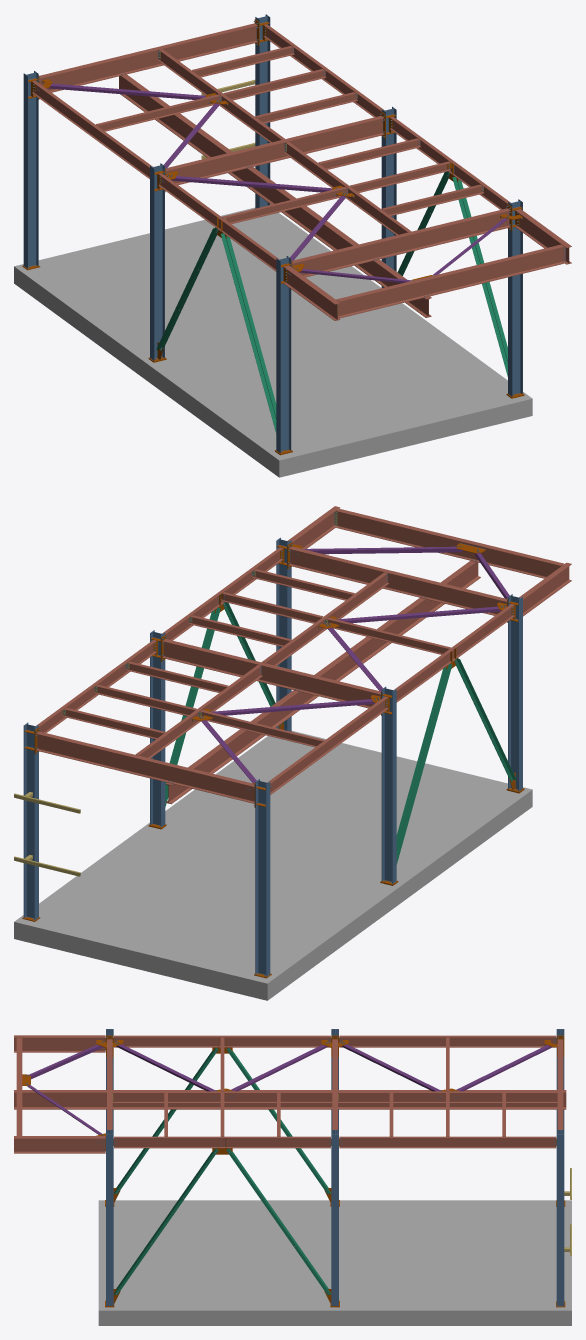
3 renders of one model, top to bottom at view 1: azimuth 30°, elevation 25°; view 2: azimuth 150°, elevation 25°; view 3: azimuth 270°, elevation 25°, orthographic. The views are drawn at different scales.
Parts seen in each view (by area): view 1: Mesh 89, Mesh 23105, Mesh 22597, Mesh 14911, Mesh 10335, Mesh 12751, Mesh 6890, Mesh 1264, Mesh 7872, Mesh 2933, Mesh 18713, Mesh 15662 (+23 smaller); view 2: Mesh 89, Mesh 23105, Mesh 10335, Mesh 22597, Mesh 12751, Mesh 14911, Mesh 6890, Mesh 7872, Mesh 4948, Mesh 1264, Mesh 8885, Mesh 18713 (+22 smaller); view 3: Mesh 89, Mesh 23105, Mesh 19105, Mesh 16978, Mesh 18713, Mesh 15662, Mesh 19742, Mesh 20409, Mesh 21630, Mesh 4948, Mesh 20853, Mesh 2933 (+14 smaller).
Boxes of the visible parts, box(x1,y1,x2,y2) form: Mesh 89: box(14, 207, 532, 477); Mesh 23105: box(119, 74, 431, 317); Mesh 22597: box(336, 244, 565, 318); Mesh 14911: box(292, 208, 510, 277); Mesh 10335: box(39, 23, 257, 92); Mesh 12751: box(165, 116, 384, 184); Mesh 6890: box(23, 71, 38, 268); Mesh 1264: box(276, 256, 291, 453); Mesh 7872: box(150, 163, 164, 360); Mesh 2933: box(508, 199, 522, 396); Mesh 18713: box(32, 80, 152, 178); Mesh 15662: box(158, 173, 279, 271); Mesh 89: box(14, 731, 532, 1000); Mesh 23105: box(165, 560, 480, 804); Mesh 10335: box(36, 731, 254, 803); Mesh 22597: box(335, 508, 563, 578); Mesh 12751: box(162, 639, 380, 708); Mesh 14911: box(288, 546, 507, 615); Mesh 6890: box(255, 779, 270, 976); Mesh 7872: box(381, 686, 396, 883); Mesh 4948: box(23, 722, 38, 920); Mesh 1264: box(508, 594, 522, 791); Mesh 8885: box(150, 630, 165, 827); Mesh 18713: box(267, 696, 388, 794); Mesh 89: box(98, 1200, 571, 1325); Mesh 23105: box(14, 1090, 566, 1109); Mesh 19105: box(339, 1136, 556, 1148); Mesh 16978: box(114, 1136, 330, 1148); Mesh 18713: box(339, 1035, 556, 1047); Mesh 15662: box(114, 1035, 330, 1047); Mesh 19742: box(112, 1091, 332, 1102); Mesh 20409: box(338, 1091, 557, 1102); Mesh 21630: box(14, 1136, 105, 1153); Mesh 4948: box(556, 1130, 564, 1305); Mesh 20853: box(14, 1035, 105, 1052); Mesh 2933: box(106, 1130, 113, 1305).
Size of the model in its own units: 7.06 by 5.64 by 15.09.
